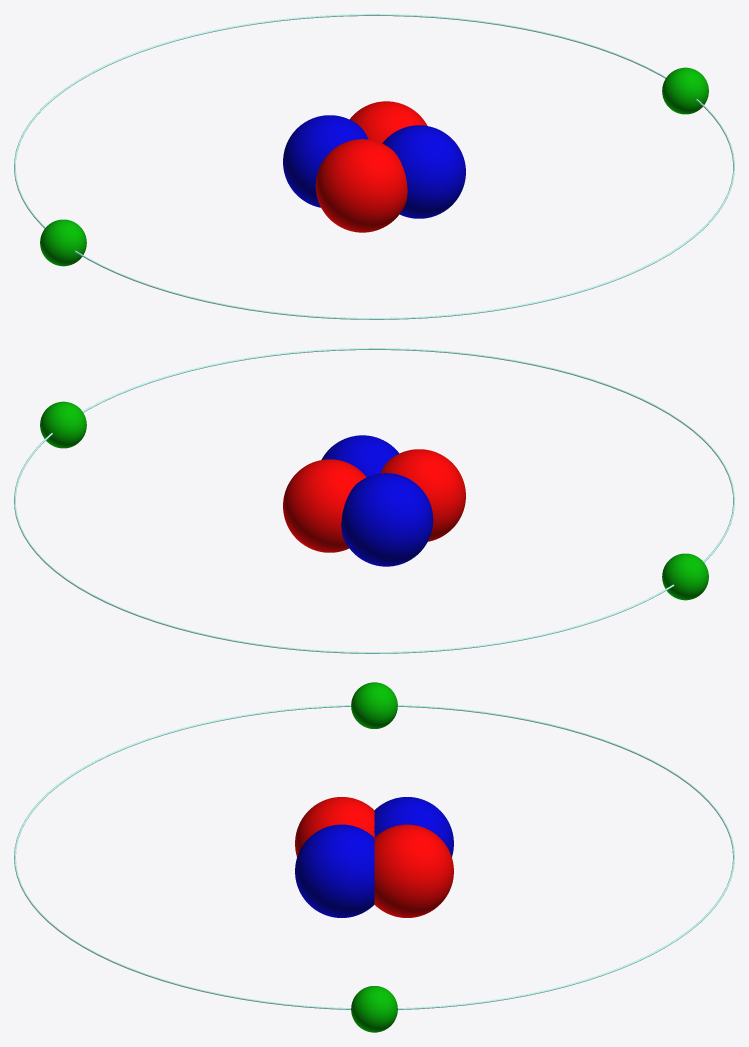
The model's file is 7helium.glb.
3 renders of one model, top to bottom at view 1: azimuth 30°, elevation 25°; view 2: azimuth 150°, elevation 25°; view 3: azimuth 270°, elevation 25°, orthographic.
Parts seen in each view (by area): view 1: Proton_1, Neutron_1, Orbita, Neutron, Proton, Electron, Electron_1; view 2: Neutron, Proton, Orbita, Proton_1, Neutron_1, Electron, Electron_1; view 3: Neutron_1, Proton, Orbita, Neutron, Proton_1, Electron, Electron_1.
Part boxes in pixels (x1=…): Proton_1: x1=315, y1=139, x2=407, y2=232; Neutron_1: x1=382, y1=125, x2=465, y2=218; Orbita: x1=14, y1=14, x2=734, y2=319; Neutron: x1=283, y1=115, x2=368, y2=207; Proton: x1=349, y1=101, x2=427, y2=143; Electron: x1=40, y1=219, x2=86, y2=266; Electron_1: x1=662, y1=67, x2=708, y2=114; Neutron: x1=341, y1=473, x2=433, y2=566; Proton: x1=283, y1=459, x2=366, y2=552; Orbita: x1=14, y1=348, x2=734, y2=653; Proton_1: x1=380, y1=449, x2=465, y2=541; Neutron_1: x1=321, y1=435, x2=399, y2=477; Electron: x1=662, y1=553, x2=708, y2=600; Electron_1: x1=40, y1=401, x2=86, y2=448; Neutron_1: x1=295, y1=824, x2=374, y2=917; Proton: x1=374, y1=824, x2=453, y2=917; Orbita: x1=14, y1=705, x2=734, y2=1009; Neutron: x1=374, y1=797, x2=453, y2=856; Proton_1: x1=295, y1=797, x2=374, y2=856; Electron: x1=351, y1=682, x2=397, y2=728; Electron_1: x1=351, y1=986, x2=397, y2=1032.
Bounding box in the file's own units: 1636 × 200 × 1542.
